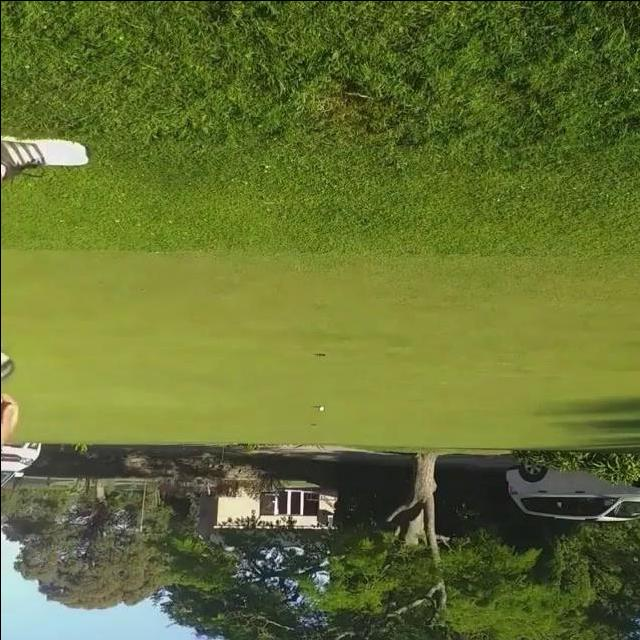GolfBall: (318, 405, 323, 410)
